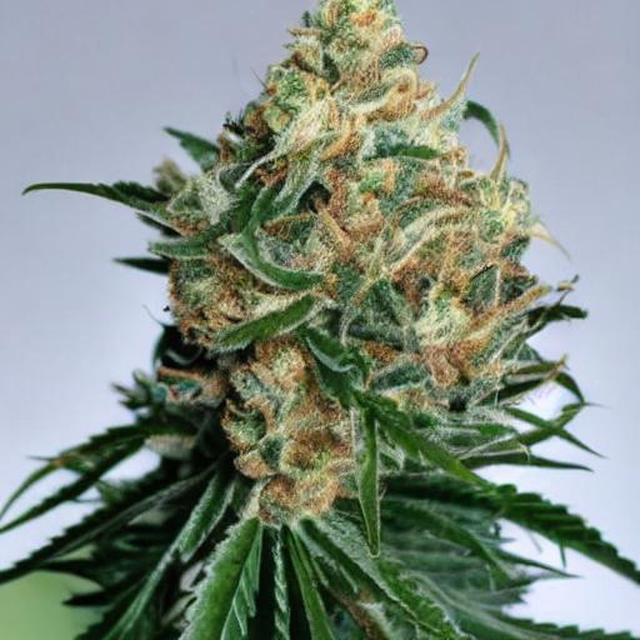Marijuana Plant: (46, 8, 622, 491)
